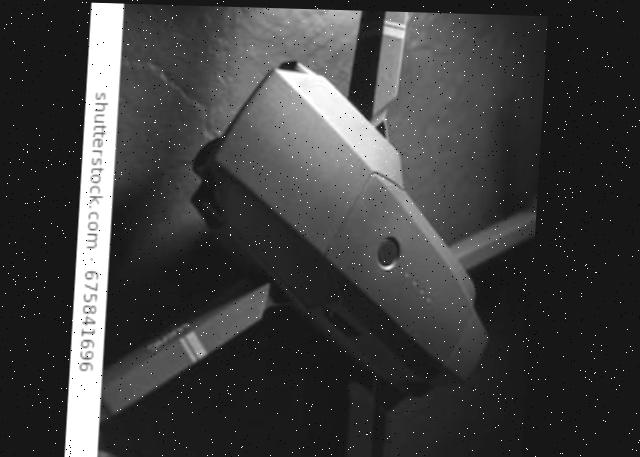drone: (70, 2, 548, 457)
